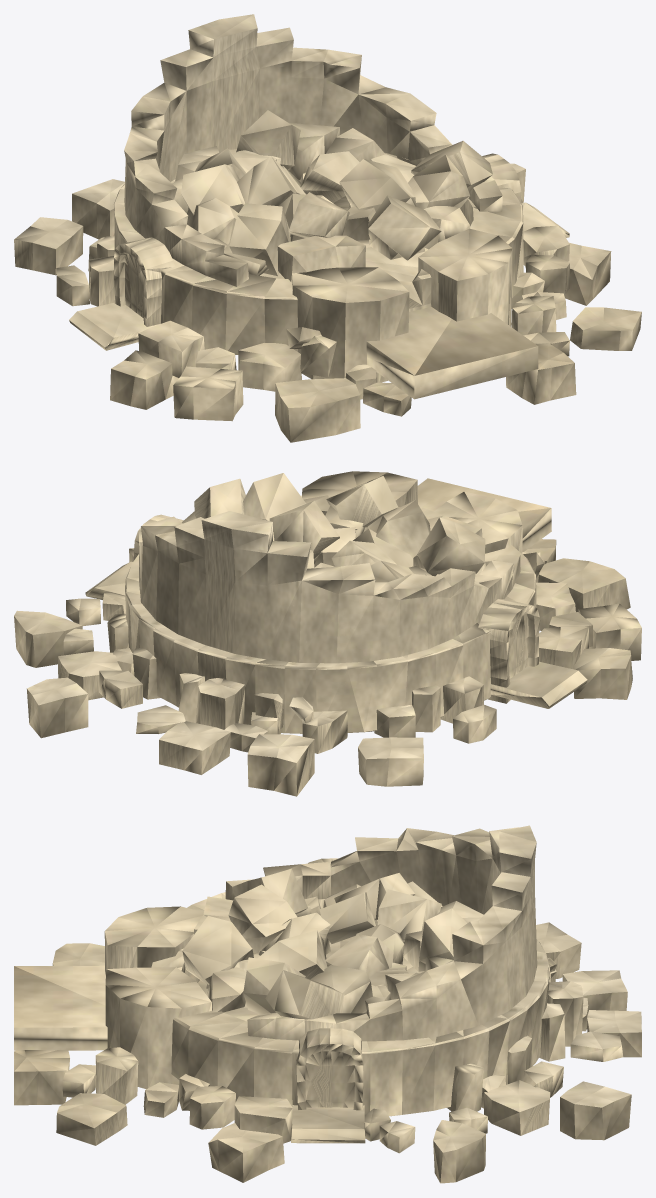
3 renders of one model, top to bottom at view 1: azimuth 30°, elevation 25°; view 2: azimuth 150°, elevation 25°; view 3: azimuth 270°, elevation 25°, orthographic.
Visible parts, largest first — view 1: castle_d4.5; view 2: castle_d4.5; view 3: castle_d4.5.
Part boxes in pixels (<box>): castle_d4.5: <box>14,14,641,442</box>; castle_d4.5: <box>14,471,641,796</box>; castle_d4.5: <box>14,825,641,1183</box>.
Size of the model in its own units: 2.77 by 1.14 by 2.9.
Materials: 1 (1 with a texture image).
